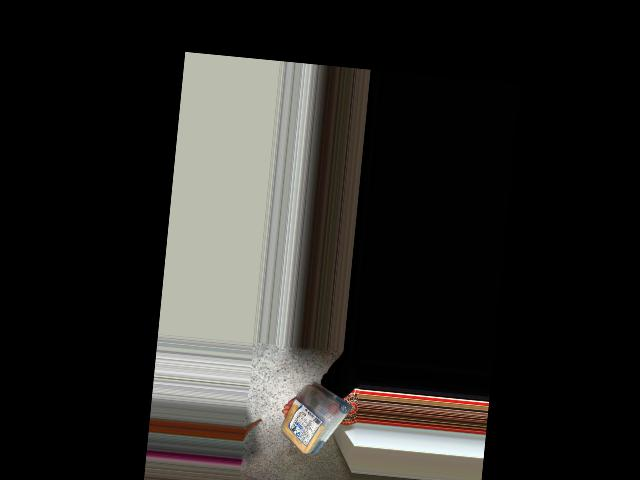cheese: (278, 380, 348, 461)
